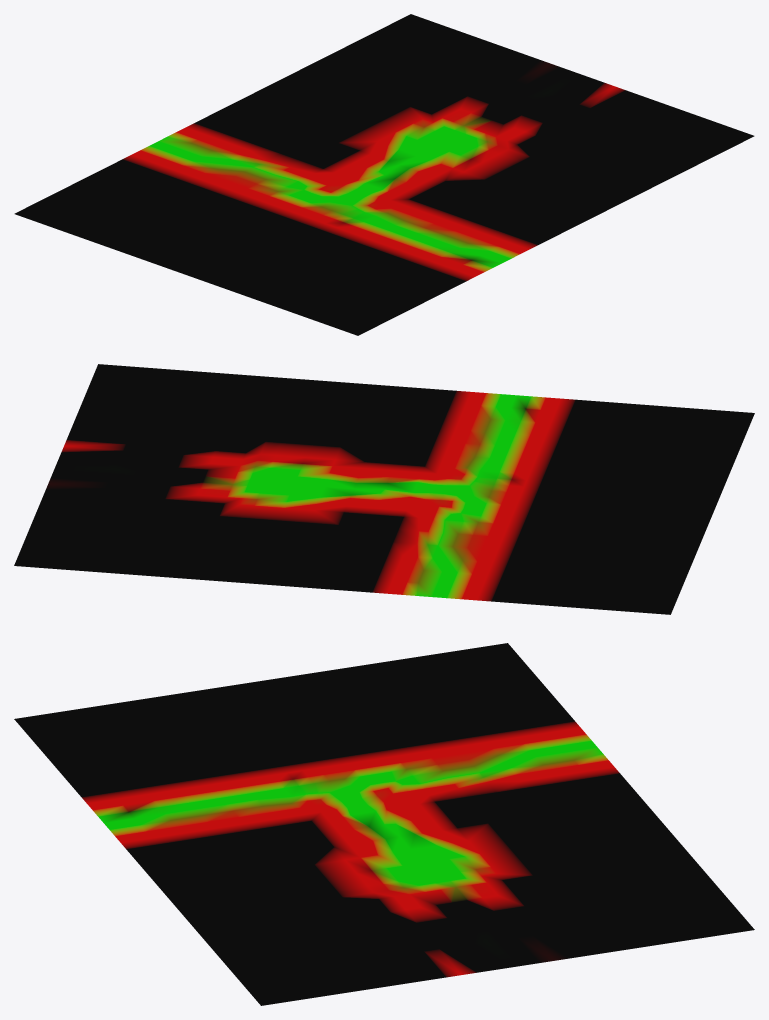
File: Section_WaySafePlace01_Forest_Terrain.fbx
The picture shows the model from 3 angles, top to bottom: view 1: azimuth 30°, elevation 25°; view 2: azimuth 150°, elevation 25°; view 3: azimuth 270°, elevation 25°; orthographic projection. The views are drawn at different scales.
Visible parts, largest first — view 1: Section_WaySafePlace01_Forest_Terrain; view 2: Section_WaySafePlace01_Forest_Terrain; view 3: Section_WaySafePlace01_Forest_Terrain.
Boxes of the visible parts, left/top/right/bottom form: Section_WaySafePlace01_Forest_Terrain: left=14, top=14, right=754, bottom=335; Section_WaySafePlace01_Forest_Terrain: left=14, top=364, right=754, bottom=614; Section_WaySafePlace01_Forest_Terrain: left=14, top=643, right=754, bottom=1005.
Size of the model in its own units: 13073 by 0.01 by 11280.
